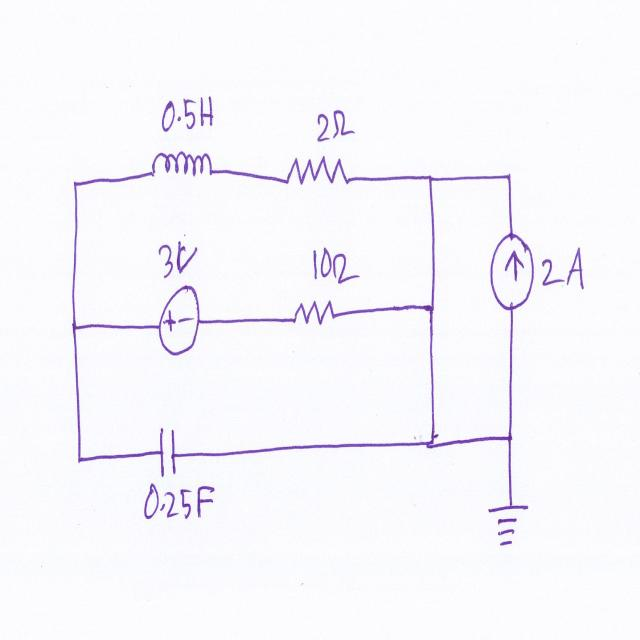capacitor: (153, 421, 183, 480)
current_source: (488, 219, 536, 314)
ground: (484, 495, 530, 557)
inductor: (146, 145, 216, 194)
resistor: (279, 156, 364, 198), (288, 292, 355, 336)
voltage_source: (154, 280, 202, 361)
